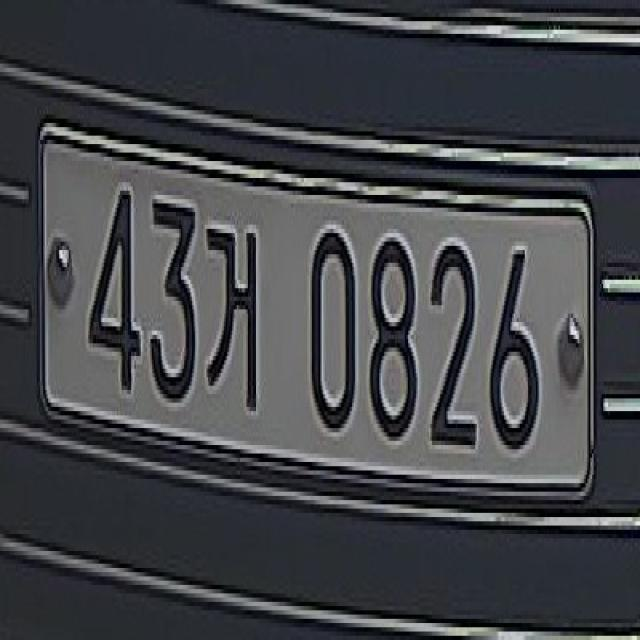plat: (36, 119, 600, 505)
